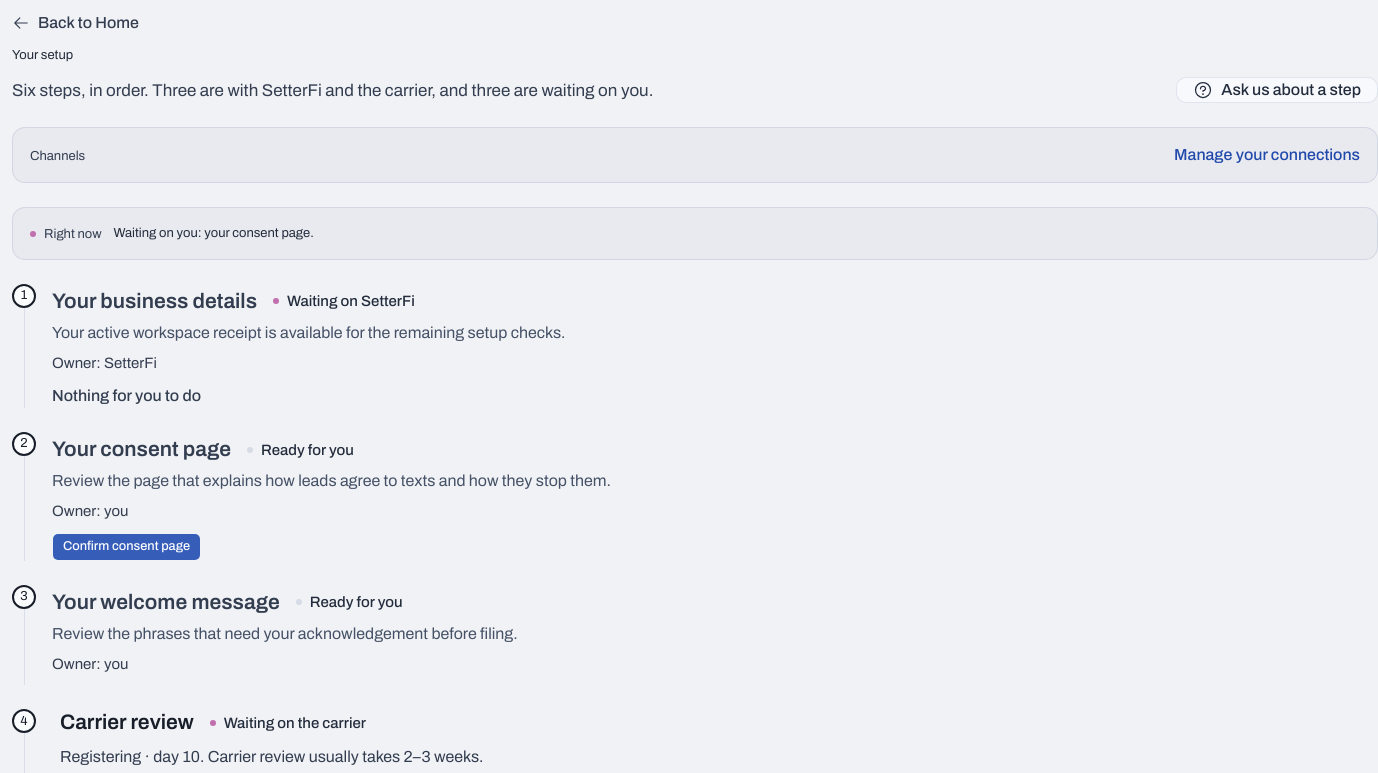
Test: GetStartedChecklist › keeps a refusal message and last good data when the affected reload fails
This screenshot has width=1378, height=773.
Click the button "Confirm consent page" at coordinates (127, 547), box [52,533,201,561]
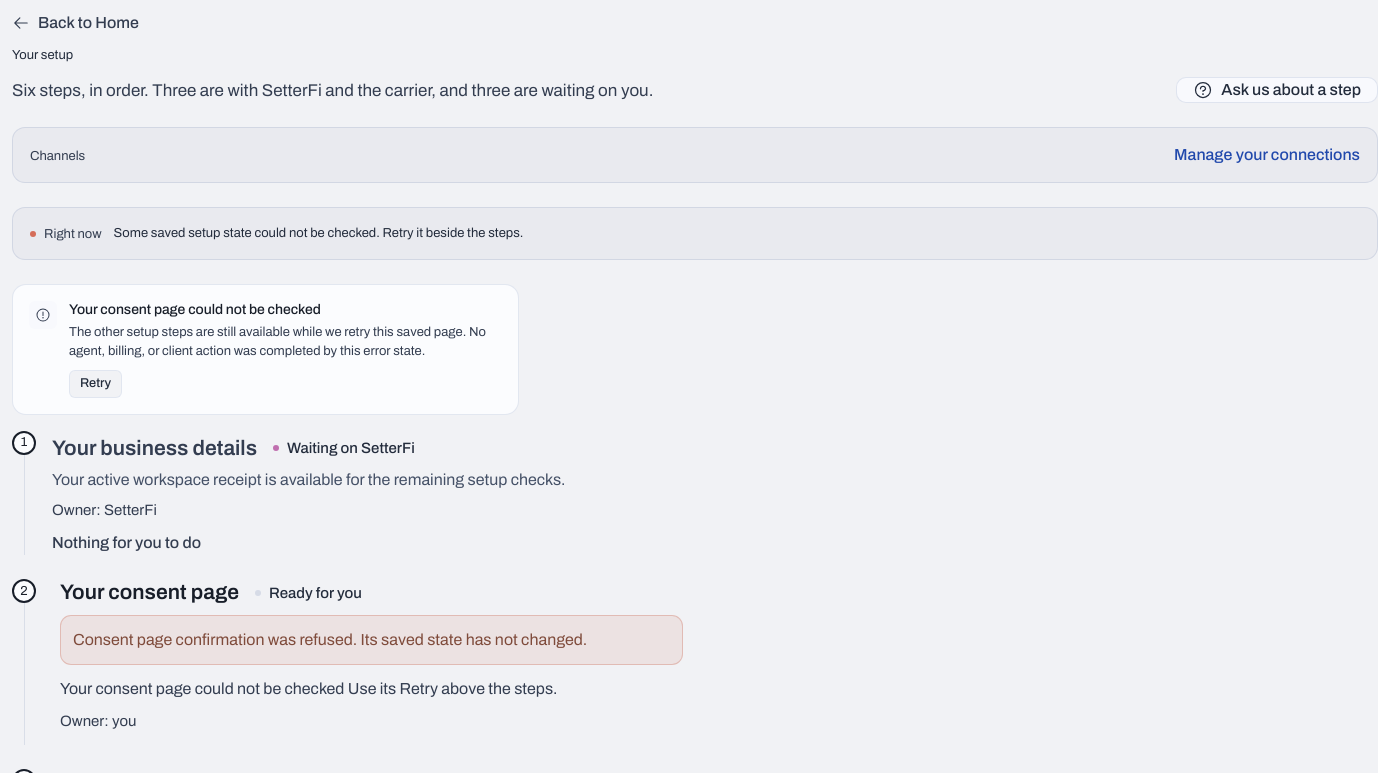
expect the message reads "Consent page confirmation was refused. Its saved state has not changed.": met, box [73,631,587,648]
expect the heading "Your consent page could not be checked" is shown: met, box [69,302,321,316]
expect the list item that starts with "Your consent page" shows "Consent page confirmation was refused. Its saved state has not changed.": met, box [73,631,587,648]
